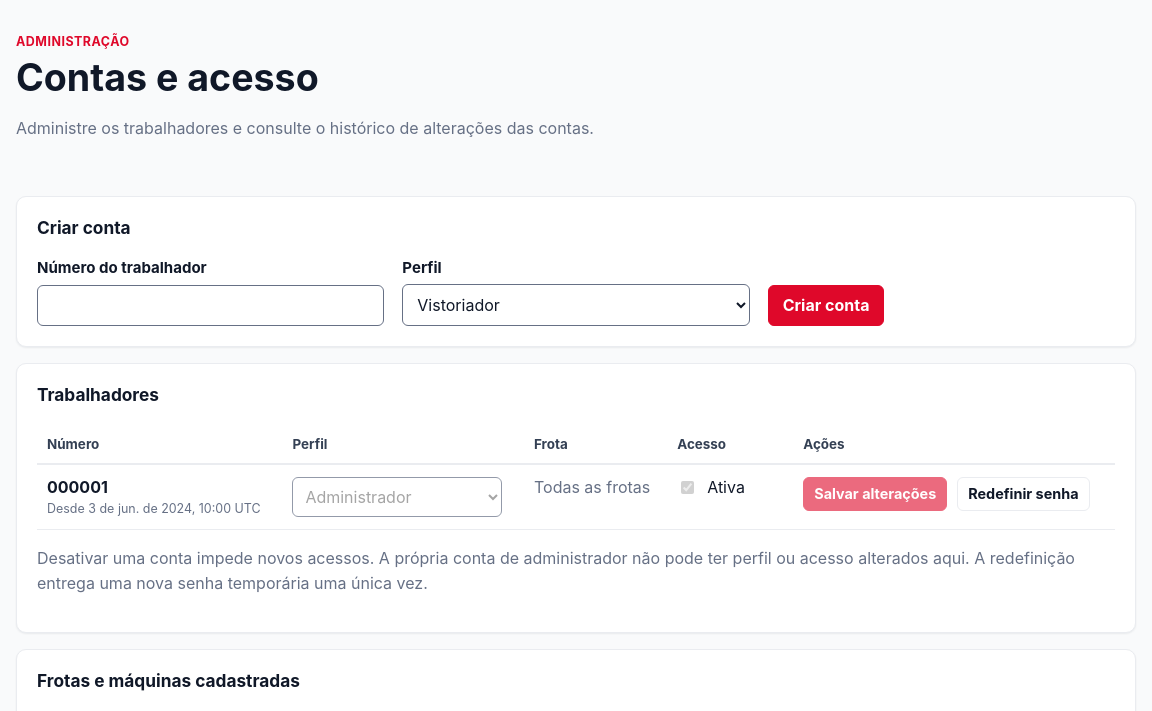
Test: AdminPage › lista máquinas e histórico e entrega a senha temporária apenas na criação
This screenshot has width=1152, height=711.
Expected: the heading "Contas e acesso" is shown, [16,55,319,100]
Expected: the checkbox is disabled, [681,481,694,494]
In the field labelled "Número do trabalhador": (211, 306) [37,285,384,326], type "000456"
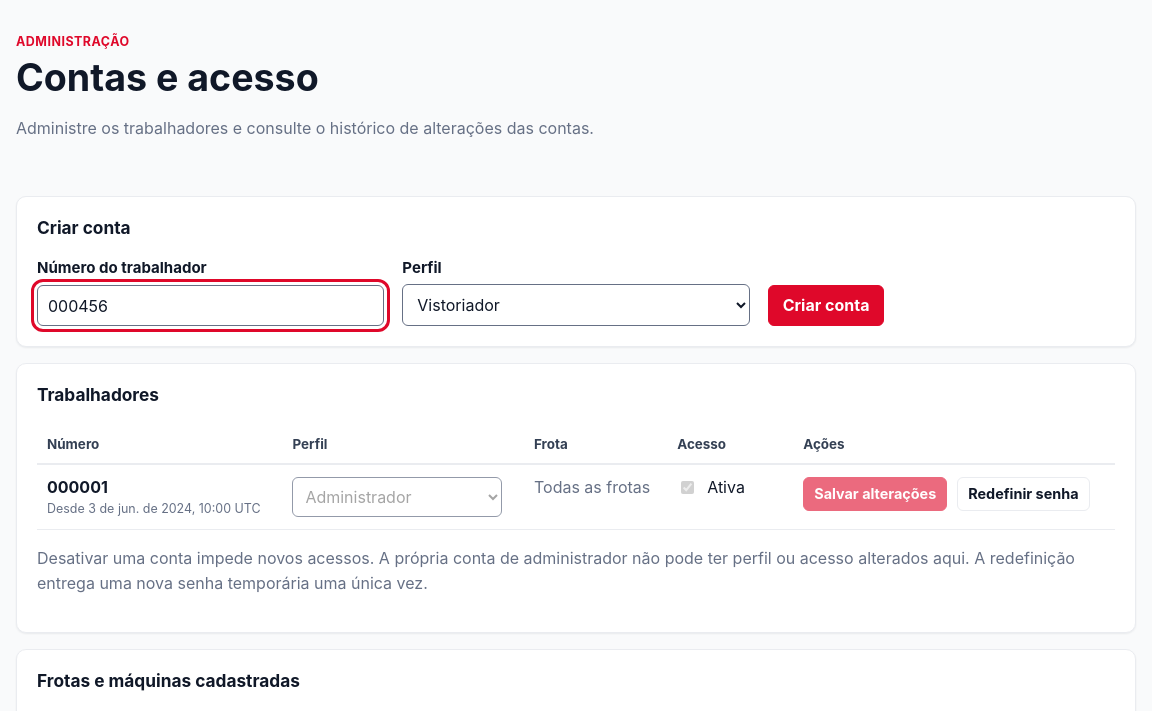
Click the button "Criar conta": (826, 306) [768,285,884,326]
(page scrolled)
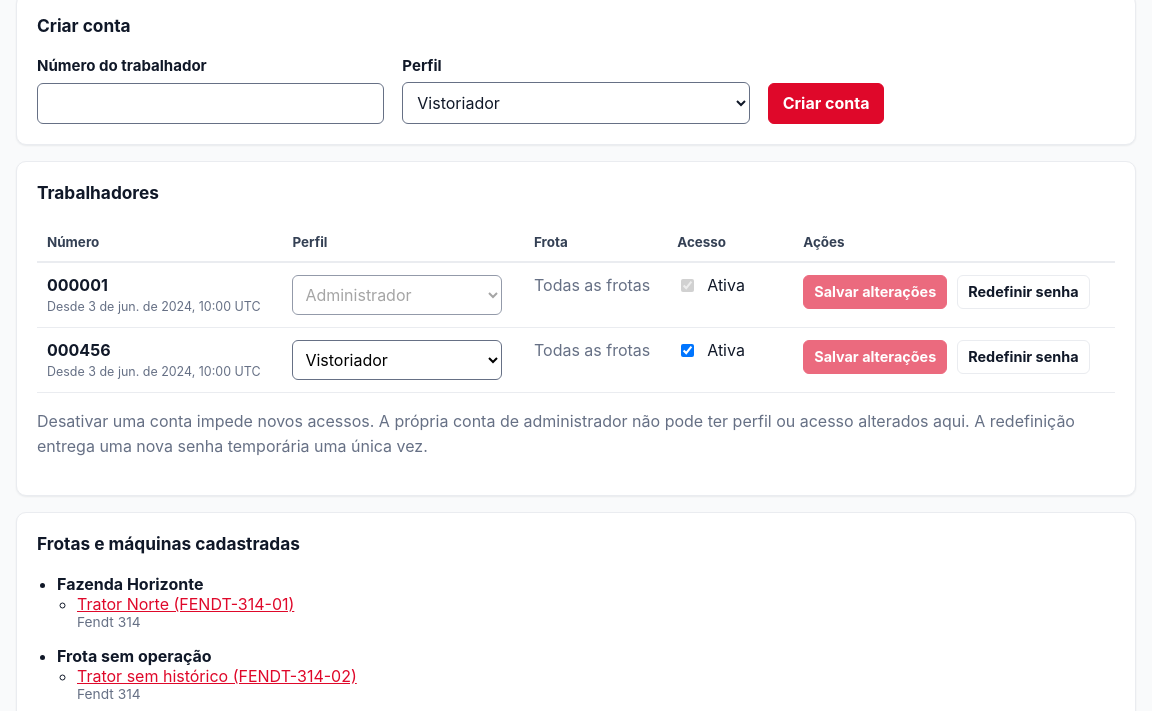
Result: the row "000456" is shown at [37,328,1115,393]
